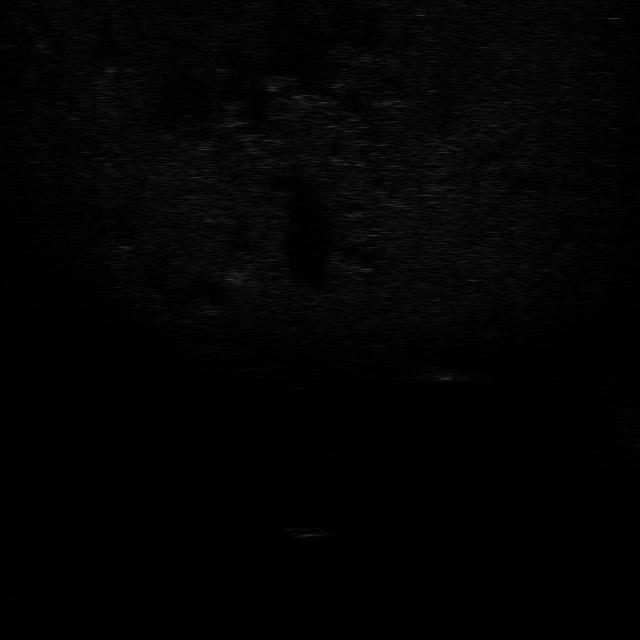cube: (282, 525, 330, 538)
square cage: (421, 364, 471, 384)
